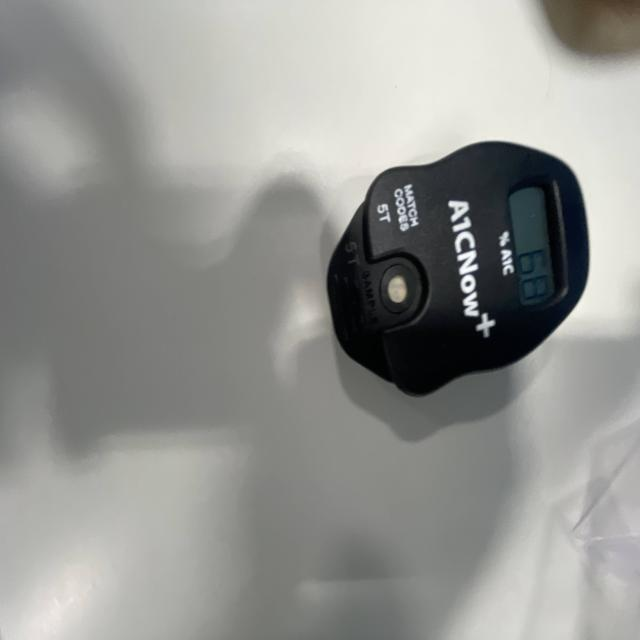hba1c: (325, 141, 592, 400)
